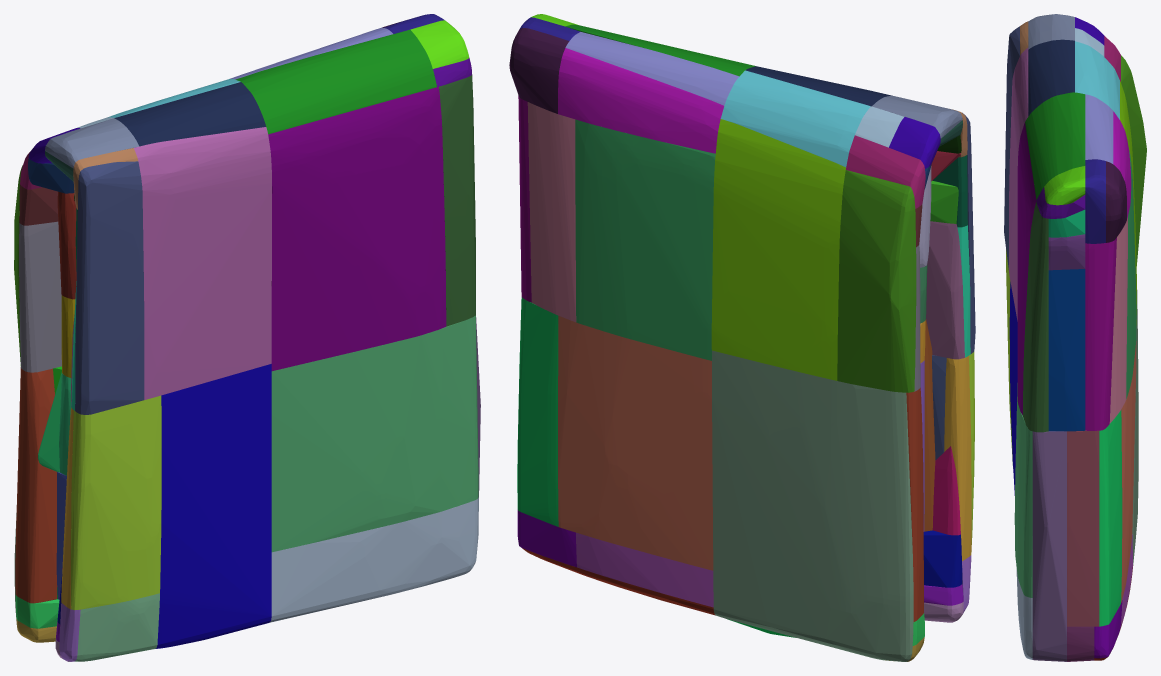
File: coacd_collision.obj
3 views of the same model, side by side, from view 1: azimuth 30°, elevation 25°; view 2: azimuth 150°, elevation 25°; view 3: azimuth 270°, elevation 25° (orthographic). The views are drawn at different scales.
Visible parts, largest first — view 1: geometry_11, geometry_3, geometry_7, geometry_5, geometry_34, geometry_16, geometry_6, geometry_8, geometry_31, geometry_19, geometry_45, geometry_21 (+18 smaller); view 2: geometry_0, geometry_9, geometry_4, geometry_10, geometry_30, geometry_22, geometry_24, geometry_23, geometry_2, geometry_38, geometry_41, geometry_12 (+26 smaller); view 3: geometry_1, geometry_13, geometry_42, geometry_14, geometry_19, geometry_23, geometry_8, geometry_11, geometry_3, geometry_7, geometry_21, geometry_24 (+26 smaller).
Part boxes in pixels (x1,y1,x2,y2): geometry_11: [268, 87, 446, 371]; geometry_3: [271, 315, 478, 552]; geometry_7: [134, 127, 271, 399]; geometry_5: [155, 364, 271, 648]; geometry_34: [71, 395, 161, 610]; geometry_16: [75, 161, 144, 414]; geometry_6: [269, 497, 478, 622]; geometry_8: [235, 29, 436, 134]; geometry_31: [15, 367, 57, 603]; geometry_19: [439, 74, 475, 326]; geometry_45: [19, 221, 61, 372]; geometry_21: [114, 82, 266, 146]; geometry_0: [712, 350, 913, 661]; geometry_9: [558, 315, 713, 570]; geometry_4: [711, 119, 845, 380]; geometry_10: [575, 119, 715, 360]; geometry_30: [837, 170, 916, 392]; geometry_22: [558, 48, 724, 153]; geometry_24: [527, 102, 576, 322]; geometry_23: [517, 297, 558, 526]; geometry_2: [720, 70, 870, 167]; geometry_38: [576, 532, 713, 607]; geometry_41: [926, 221, 964, 359]; geometry_12: [565, 32, 739, 105]; geometry_1: [1032, 431, 1066, 661]; geometry_13: [1067, 430, 1099, 626]; geometry_42: [1048, 269, 1085, 431]; geometry_14: [1085, 237, 1116, 430]; geometry_19: [1022, 201, 1048, 432]; geometry_23: [1099, 410, 1122, 626]; geometry_8: [1025, 92, 1085, 199]; geometry_11: [1017, 123, 1036, 414]; geometry_3: [1014, 383, 1032, 597]; geometry_7: [1009, 47, 1028, 321]; geometry_21: [1028, 39, 1074, 116]; geometry_24: [1109, 217, 1127, 423].
Bounding box in the file's own units: 102 × 125 × 32.47.
